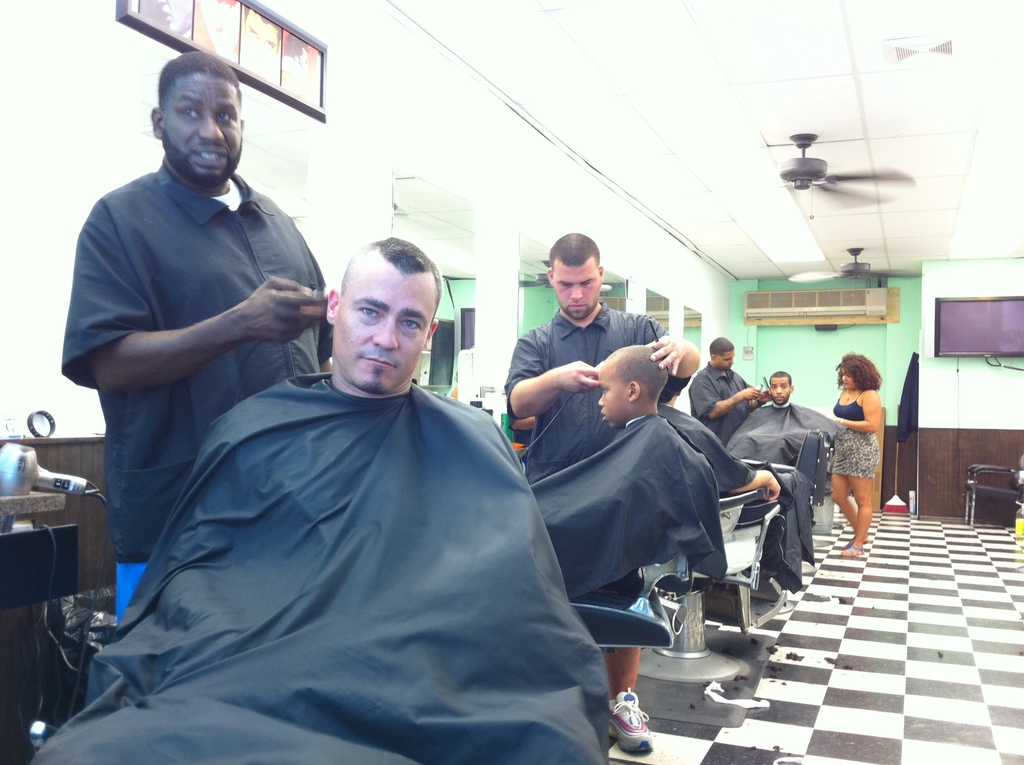Person: (527, 342, 721, 596), (727, 373, 839, 595), (788, 347, 882, 576), (683, 339, 763, 441)
